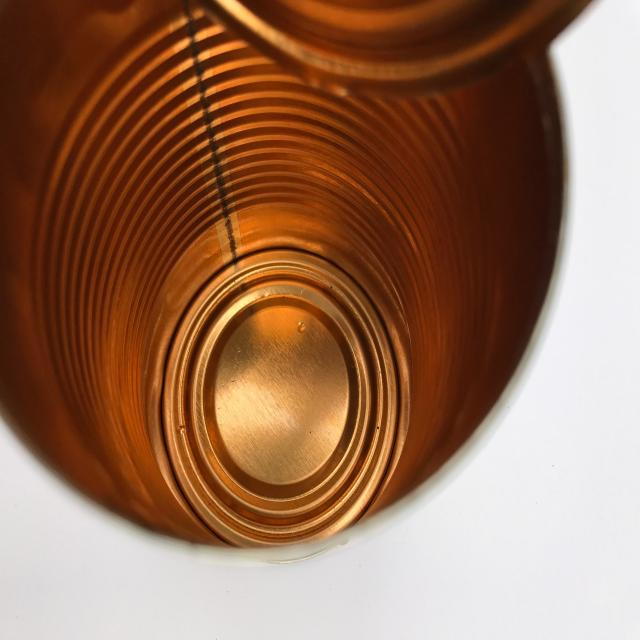Metal: (0, 0, 616, 574)
